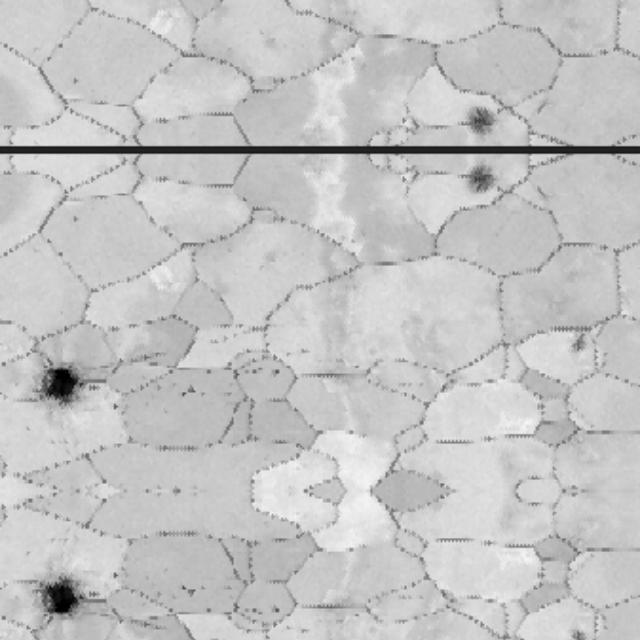good_void: (35, 361, 86, 413), (35, 569, 86, 620), (467, 165, 500, 192), (467, 106, 500, 133), (566, 328, 595, 358), (566, 624, 591, 640), (178, 378, 196, 400), (178, 582, 196, 604), (105, 566, 121, 585), (105, 397, 121, 415), (71, 210, 82, 223), (71, 75, 82, 88), (272, 366, 282, 379), (272, 603, 282, 616)
